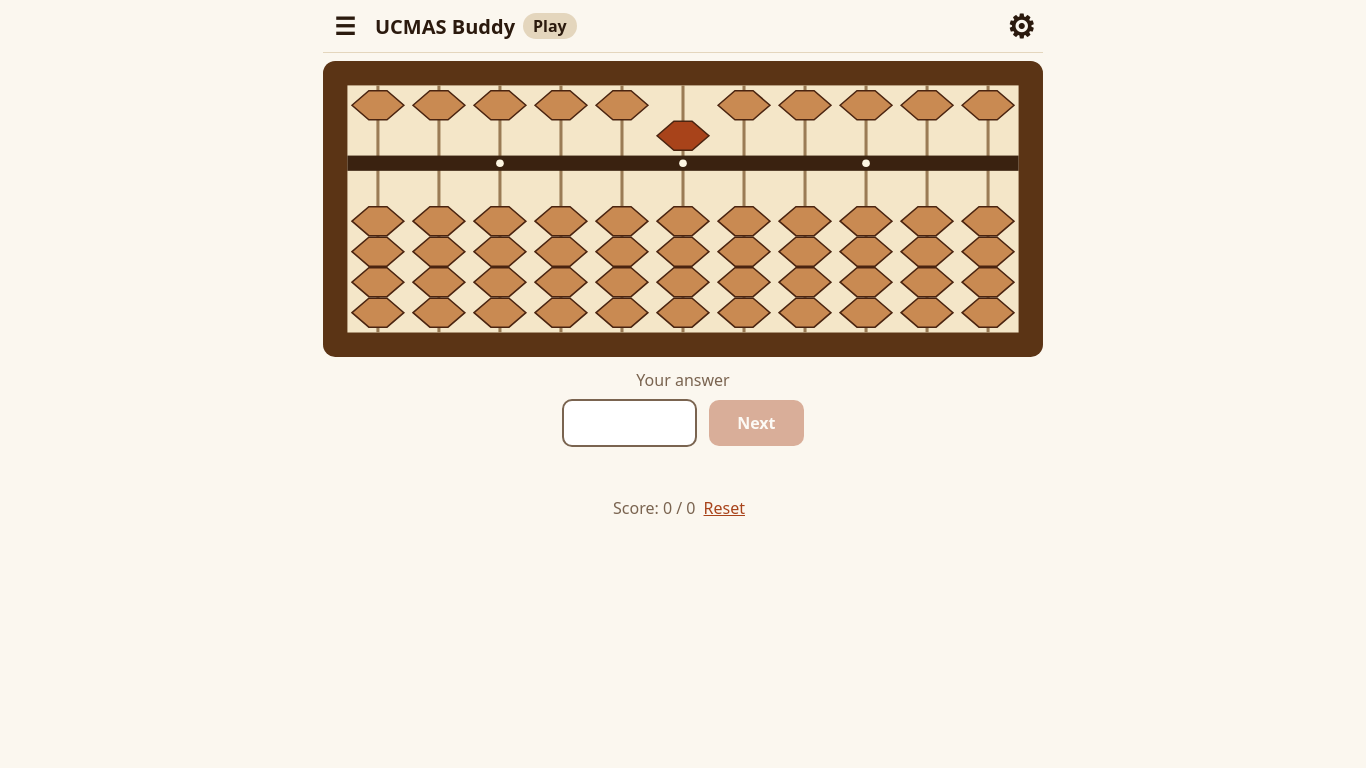
it: <App> › vanish settings (AC5) › shows a 0.2-3.0 s slider at 0.5 s when switched on
Click the button named "open settings" at [1021, 26], box [999, 4, 1043, 48]
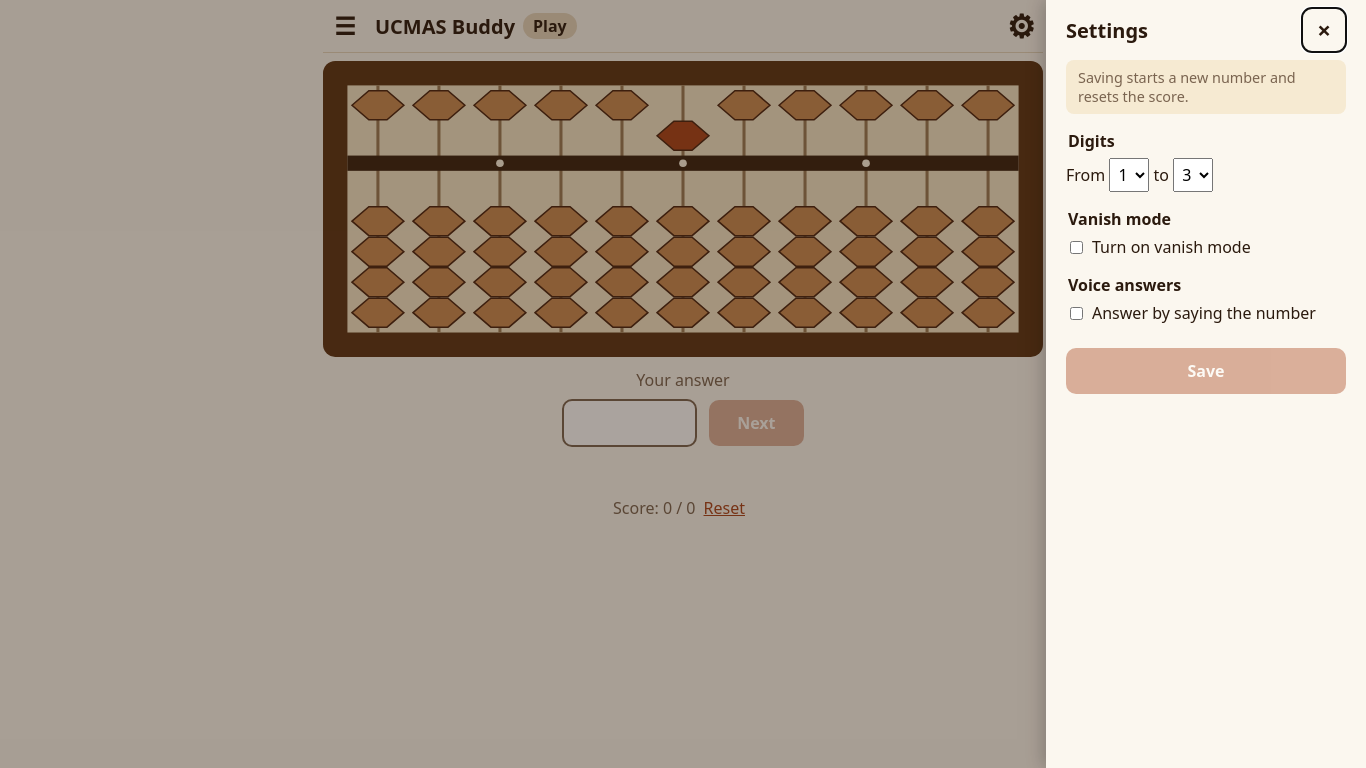
Click the checkbox labelled "Turn on vanish mode" at [1076, 247], box [1070, 240, 1083, 254]
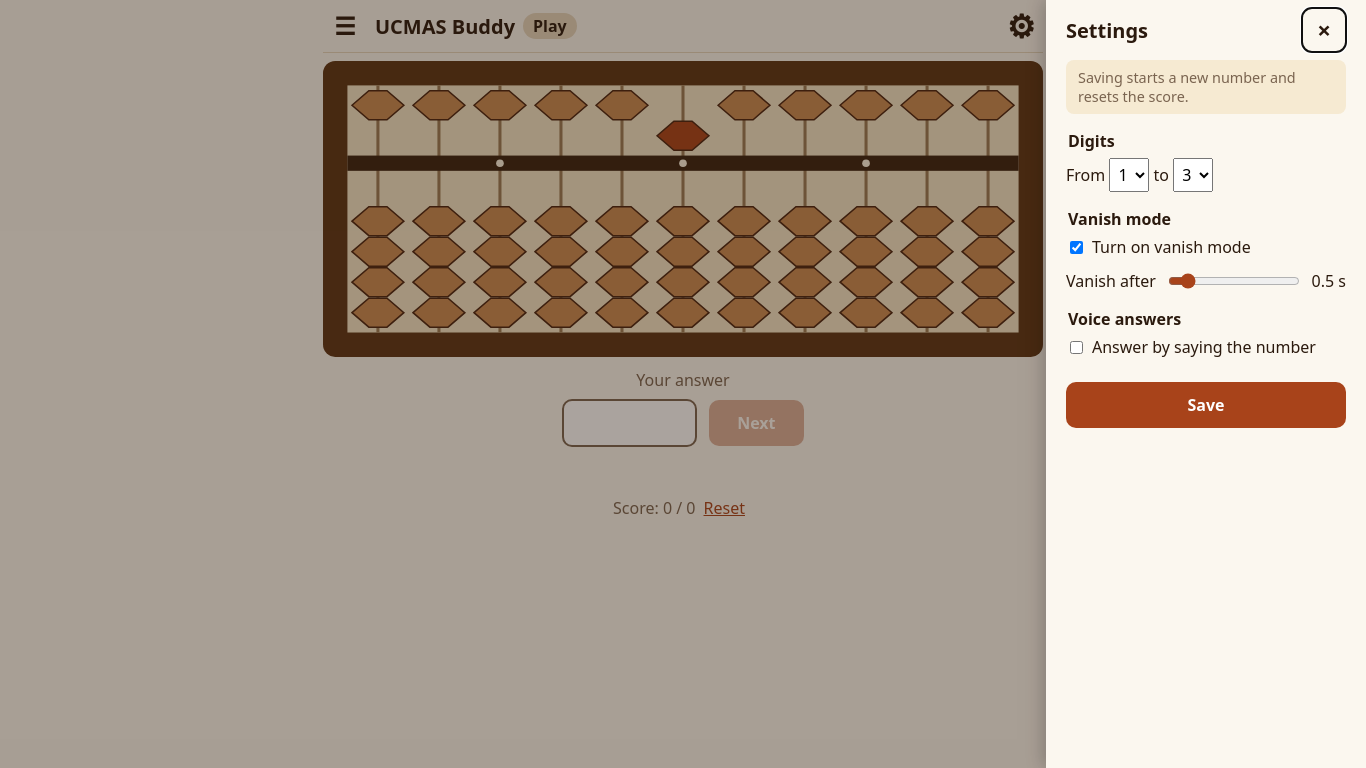
Expected: the slider labelled "Vanish after 0.5 s" holds "0.5", [1168, 273, 1300, 289]
Expected: the text "0.5 s" is shown, [1312, 270, 1346, 292]
